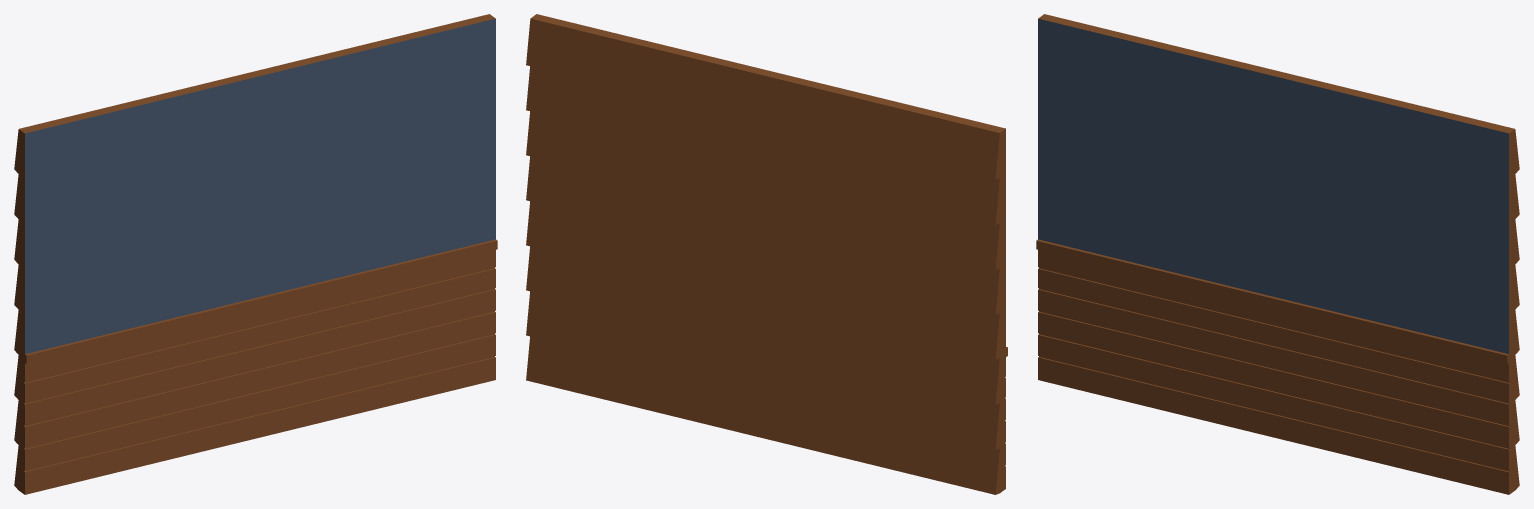
Rendered from ww_wall_c.glb.
The picture shows the model from 3 angles, left to right: view 1: azimuth 30°, elevation 25°; view 2: azimuth 150°, elevation 25°; view 3: azimuth 330°, elevation 25°; orthographic projection.
Visible parts, largest first — view 1: Wall_C; view 2: Wall_C; view 3: Wall_C.
Part boxes in pixels (left/top/right/bottom): Wall_C: left=14, top=14, right=497, bottom=494; Wall_C: left=526, top=14, right=1007, bottom=494; Wall_C: left=1036, top=14, right=1519, bottom=494.
Bounding box in the file's own units: 4.8 × 3.52 × 0.2203.
